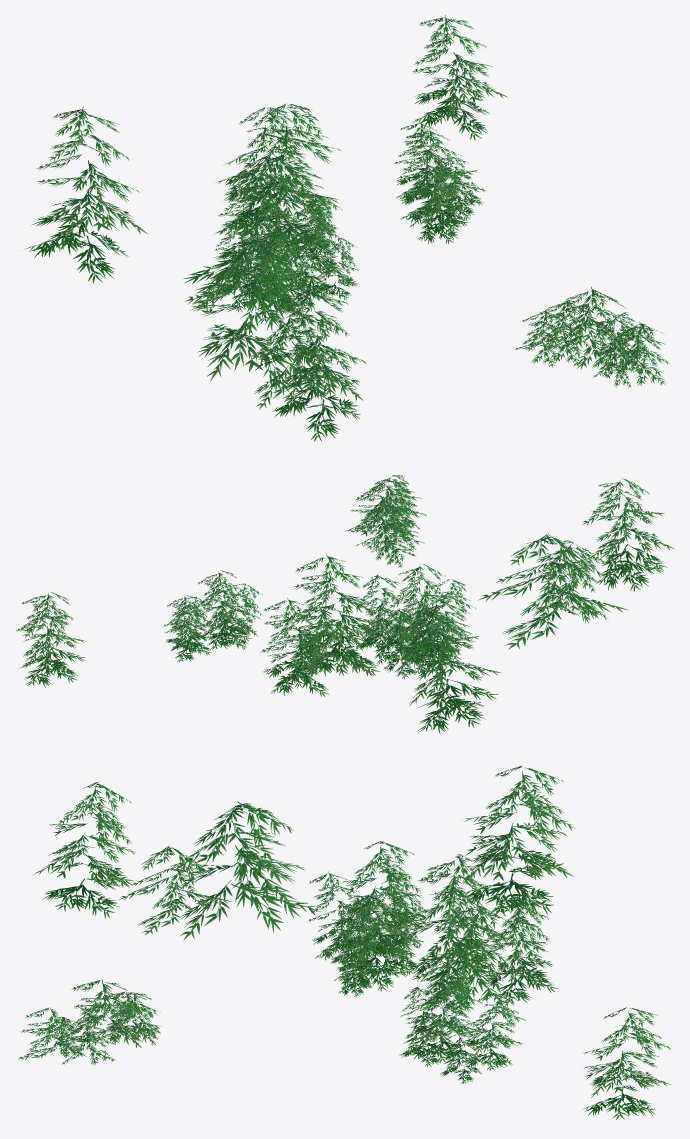
The model's file is Area_12_37.fbx.
3 renders of one model, top to bottom at view 1: azimuth 30°, elevation 25°; view 2: azimuth 150°, elevation 25°; view 3: azimuth 270°, elevation 25°, orthographic. The views are drawn at different scales.
Visible parts, largest first — view 1: Area_12_37; view 2: Area_12_37; view 3: Area_12_37.
Boxes of the visible parts, <box> form: Area_12_37: <box>24,15,669,441</box>; Area_12_37: <box>16,475,674,733</box>; Area_12_37: <box>18,765,671,1119</box>.
Bounding box in the file's own units: 6194 × 1892 × 7112.
